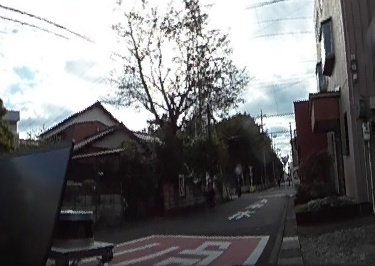person: (202, 169, 217, 210), (233, 175, 244, 194)
